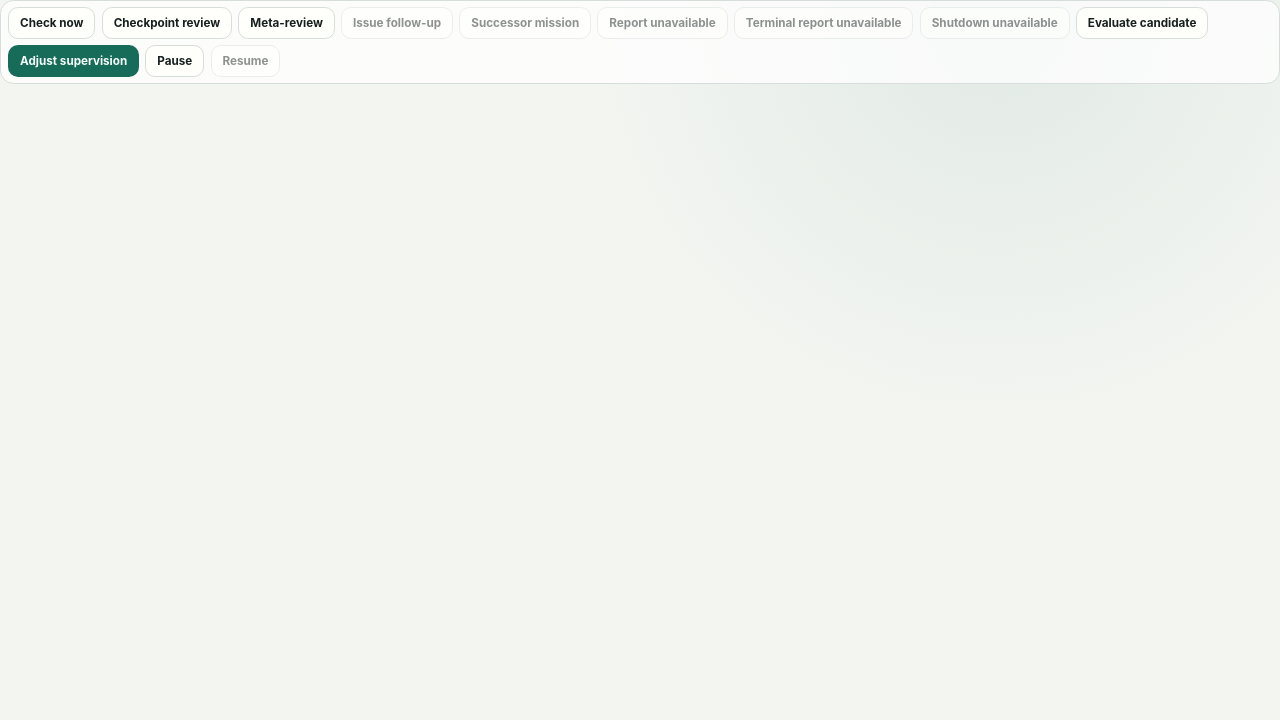
it: Factory workflow action strips › previews only the current Factory-evolution stage and keeps adoption outside it
This screenshot has width=1280, height=720.
Click the button "Evaluate candidate".
click(1142, 23)  # box [1076,7,1208,39]
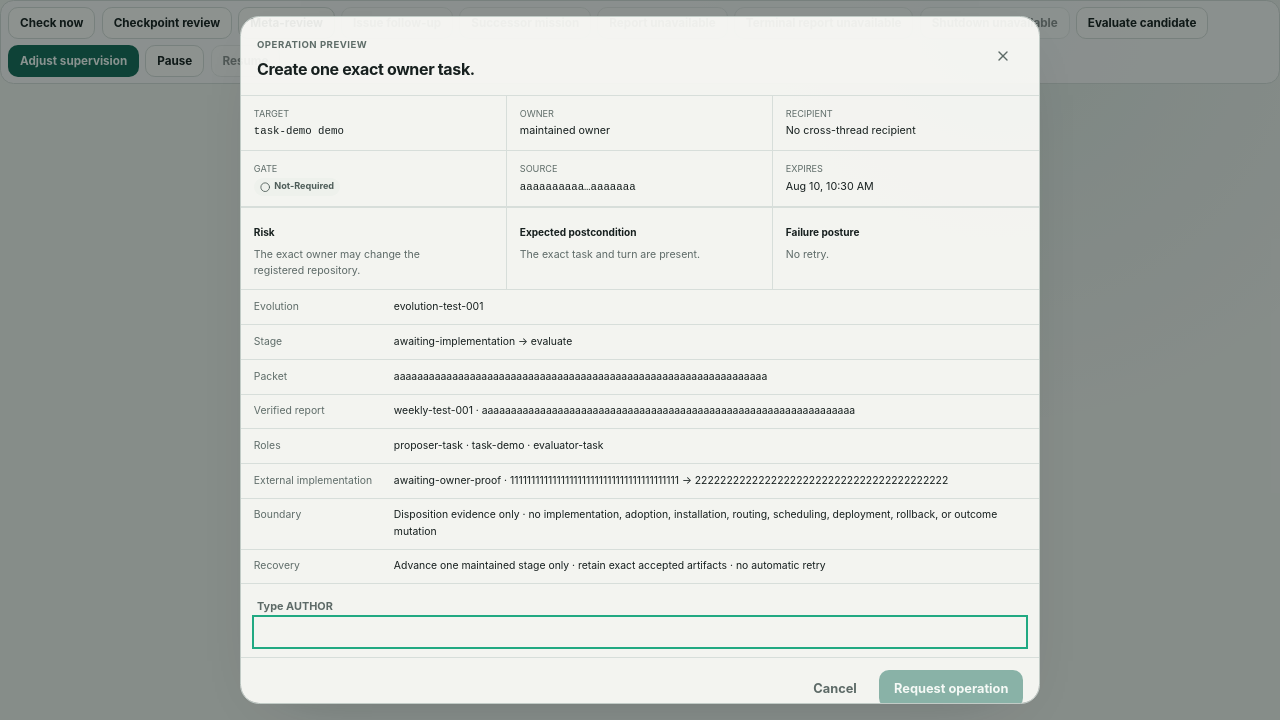
Check: the text "awaiting-implementation → evaluate" is shown, box [394,335,572,348]
Check: the text "Disposition evidence only" shows "no implementation, adoption, installation, routing, scheduling, deployment, rollback, or outcome mutation", box [394,508,1000,538]
